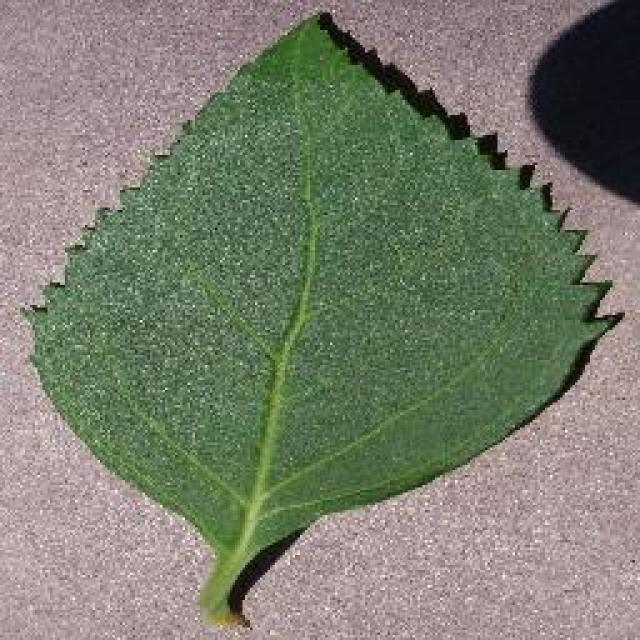Cher_including_sour_healthy: (132, 105, 528, 476)
